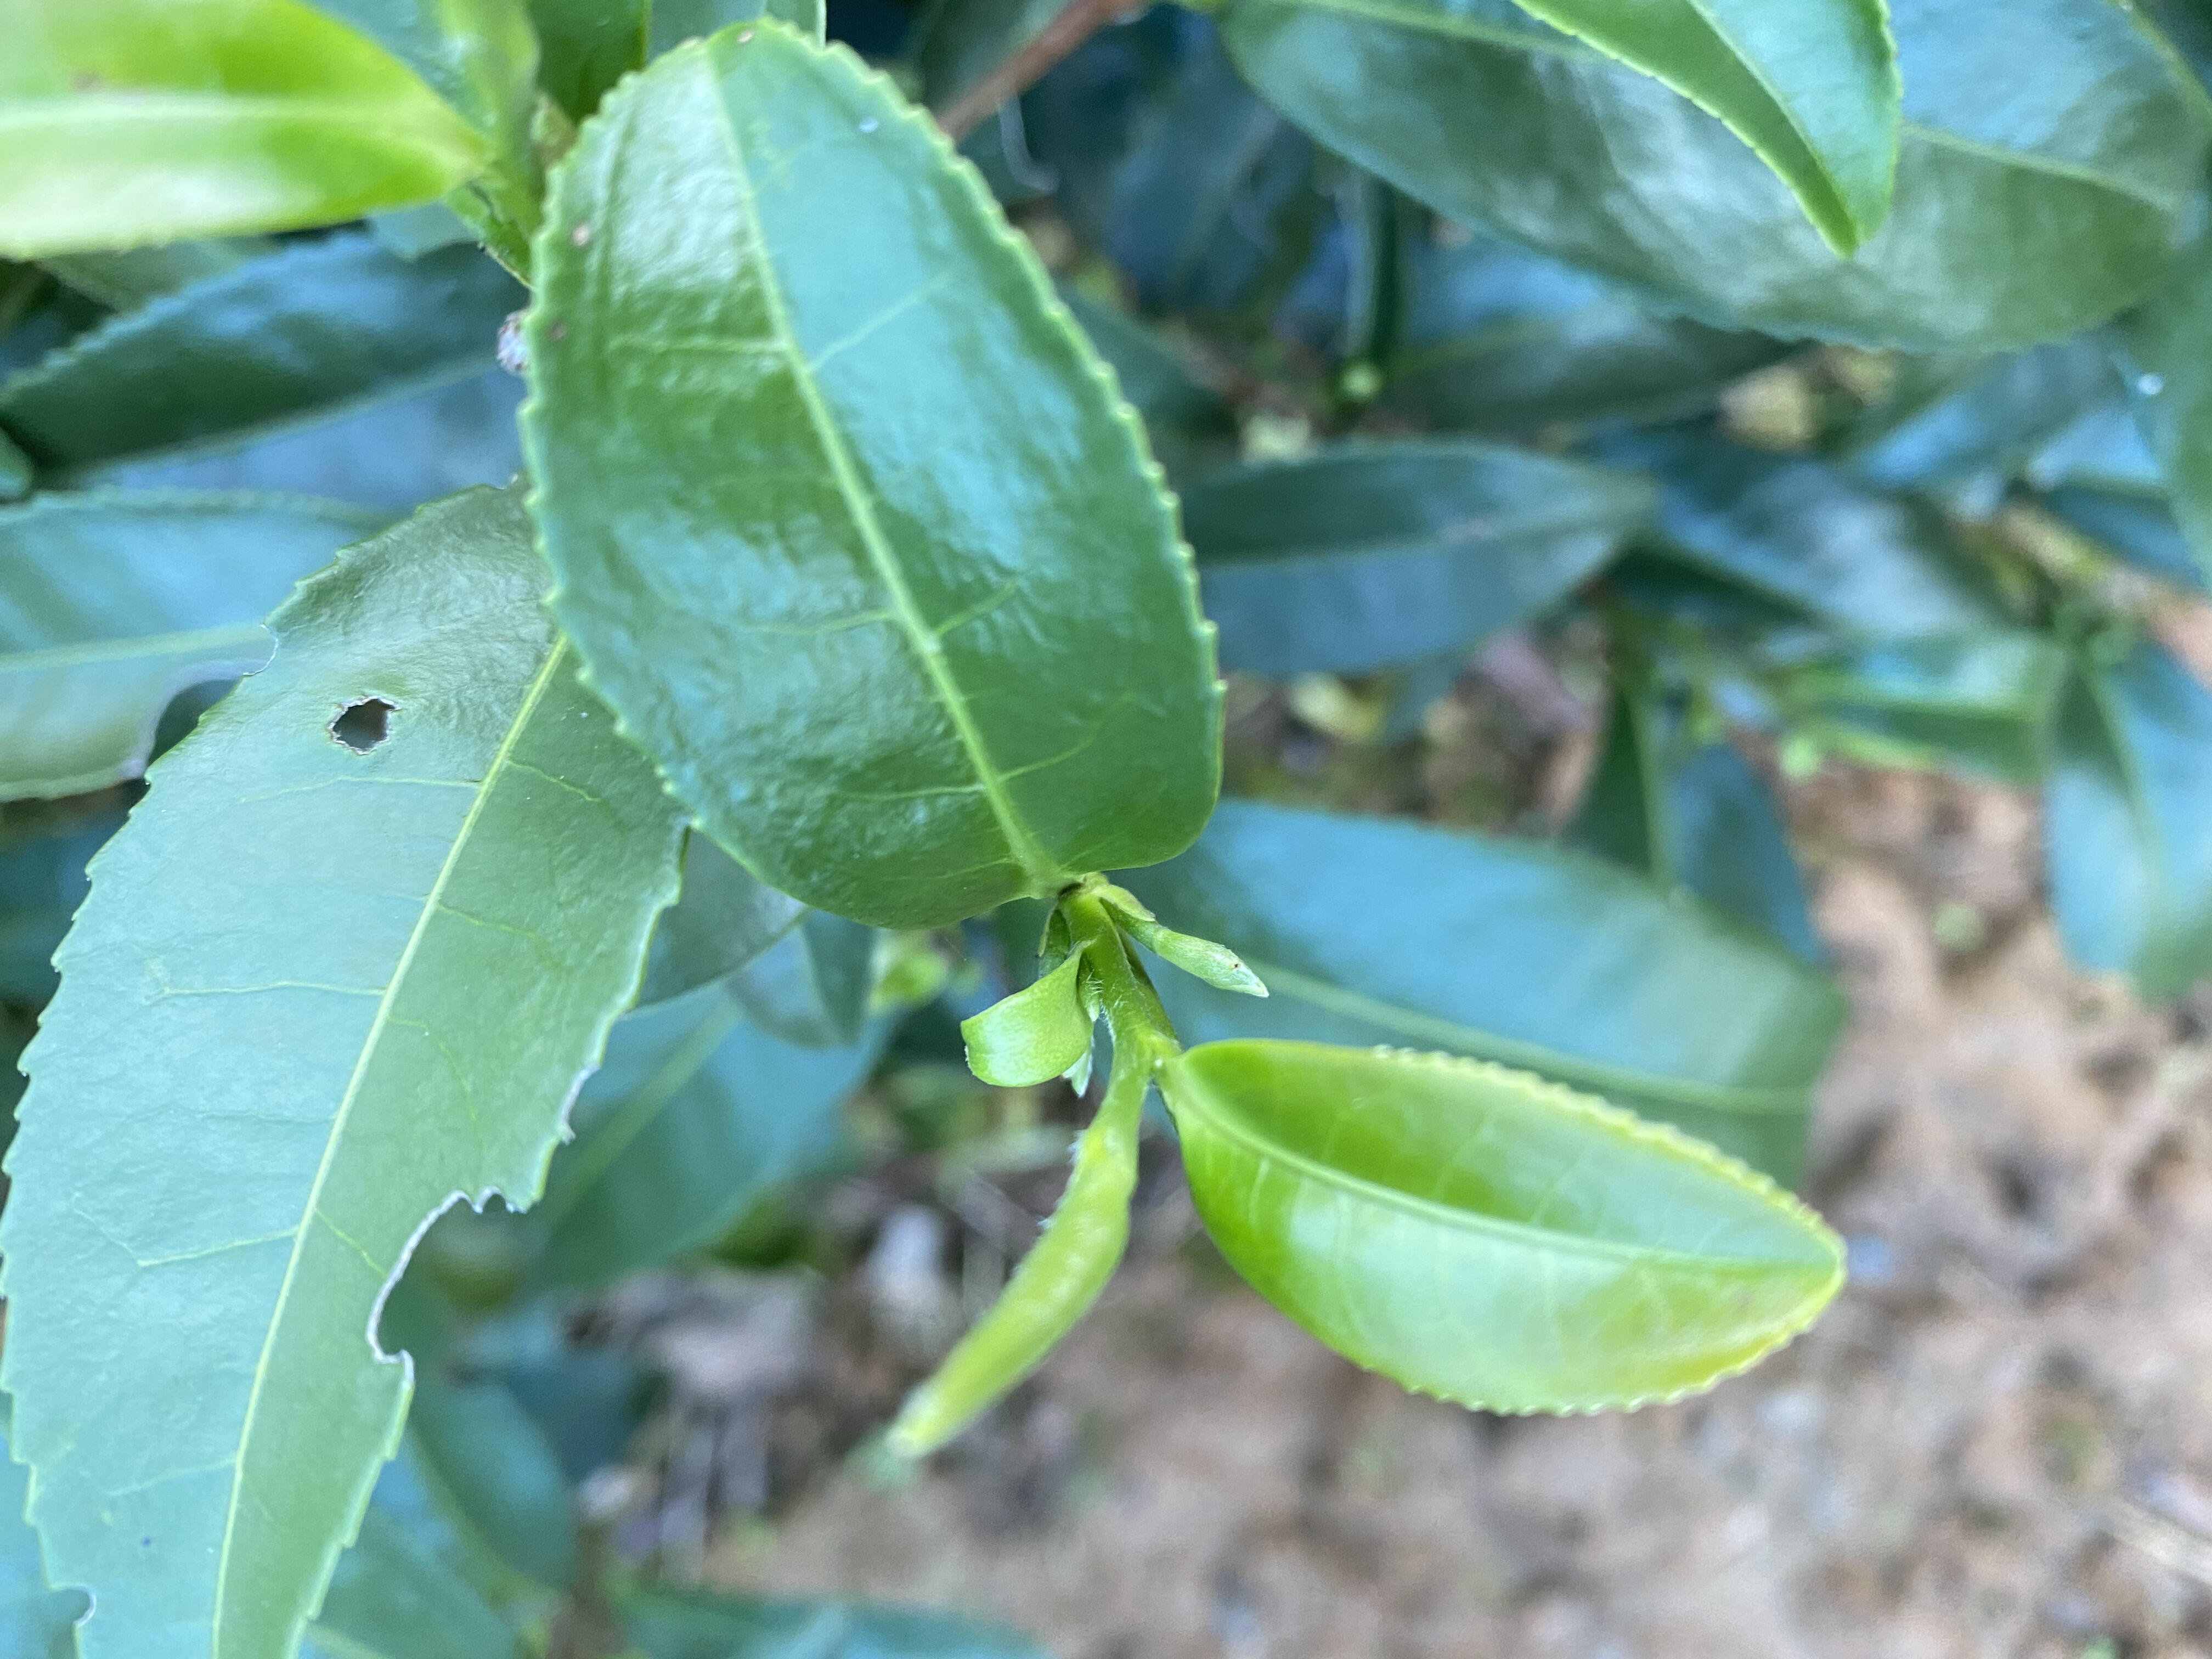chihuo_high: (3, 467, 695, 1656)
healthy: (1170, 1033, 1853, 1417)
tanju_low: (517, 16, 1226, 931)
